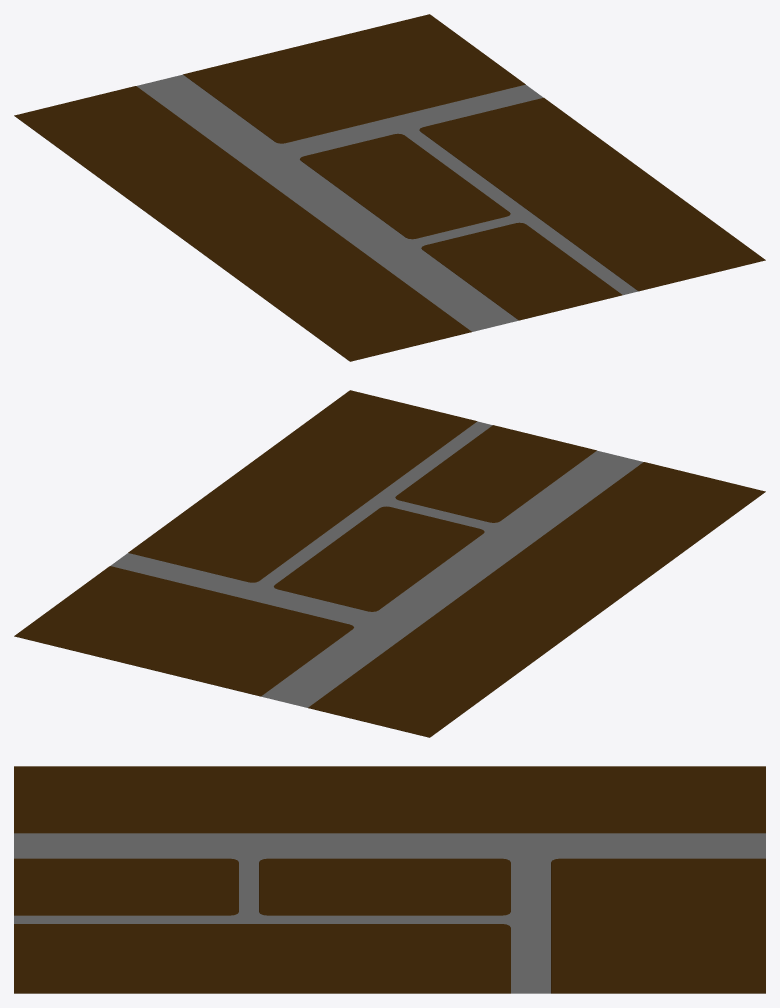
The model's file is Bazar.fbx.
The picture shows the model from 3 angles, top to bottom: view 1: azimuth 30°, elevation 25°; view 2: azimuth 150°, elevation 25°; view 3: azimuth 270°, elevation 25°; orthographic projection. The views are drawn at different scales.
Parts seen in each view (by area): view 1: Plate_Bazar; view 2: Plate_Bazar; view 3: Plate_Bazar.
Part boxes in pixels (x1,y1,x2,y2): Plate_Bazar: (14,14,765,361); Plate_Bazar: (14,390,765,737); Plate_Bazar: (14,766,765,993).
Bounding box in the file's own units: 20000 × 10 × 28000.
